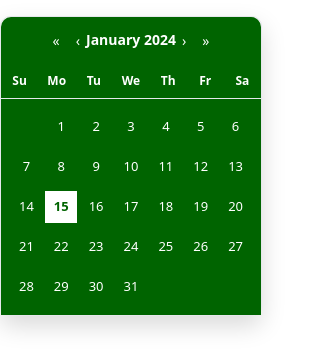
Test: Calendar Component › navigates to previous year
Click the button "«". click: (56, 40)
box: 46,29 -> 66,52
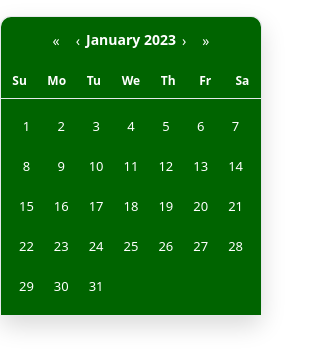
Now the text "January 2023" is shown, box 86,29 -> 176,52
